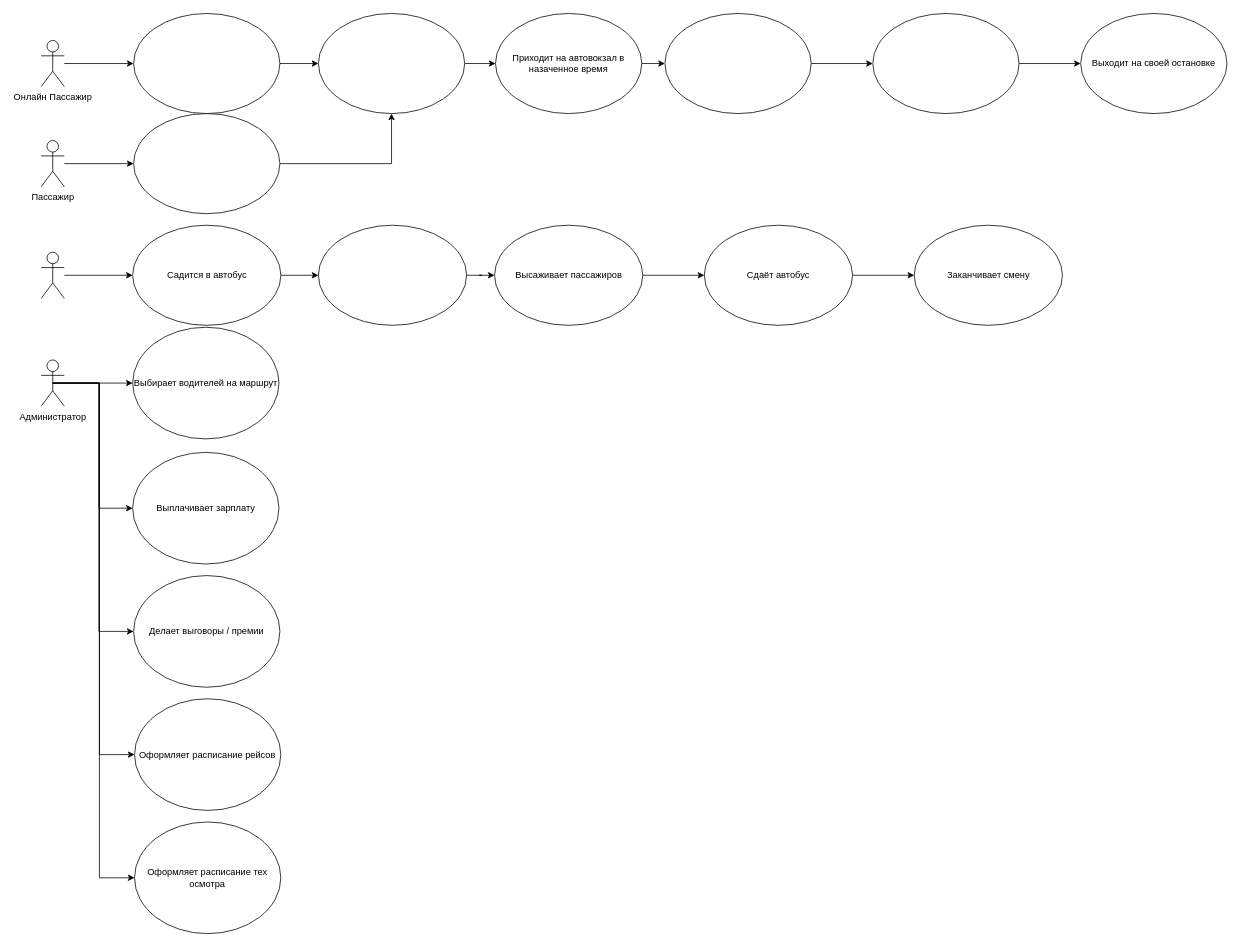
Image size: 1240x947. Some labels were removed from this diagram. Here are the shapes that lost their labels. From the top down, the centre of each, then its label:
At point 206,63: "Заходит на сайт, выбирает рейс".
At point 391,63: "Заказывает билет на рейс".
At point 737,63: "Садится в атобус".
At point 945,63: "Едет по маршруту".
At point 206,163: "Приходит в автовокзал, выбирает рейс".
At point 52,274: "Водитель".
At point 392,274: "Едет по маршрту".
